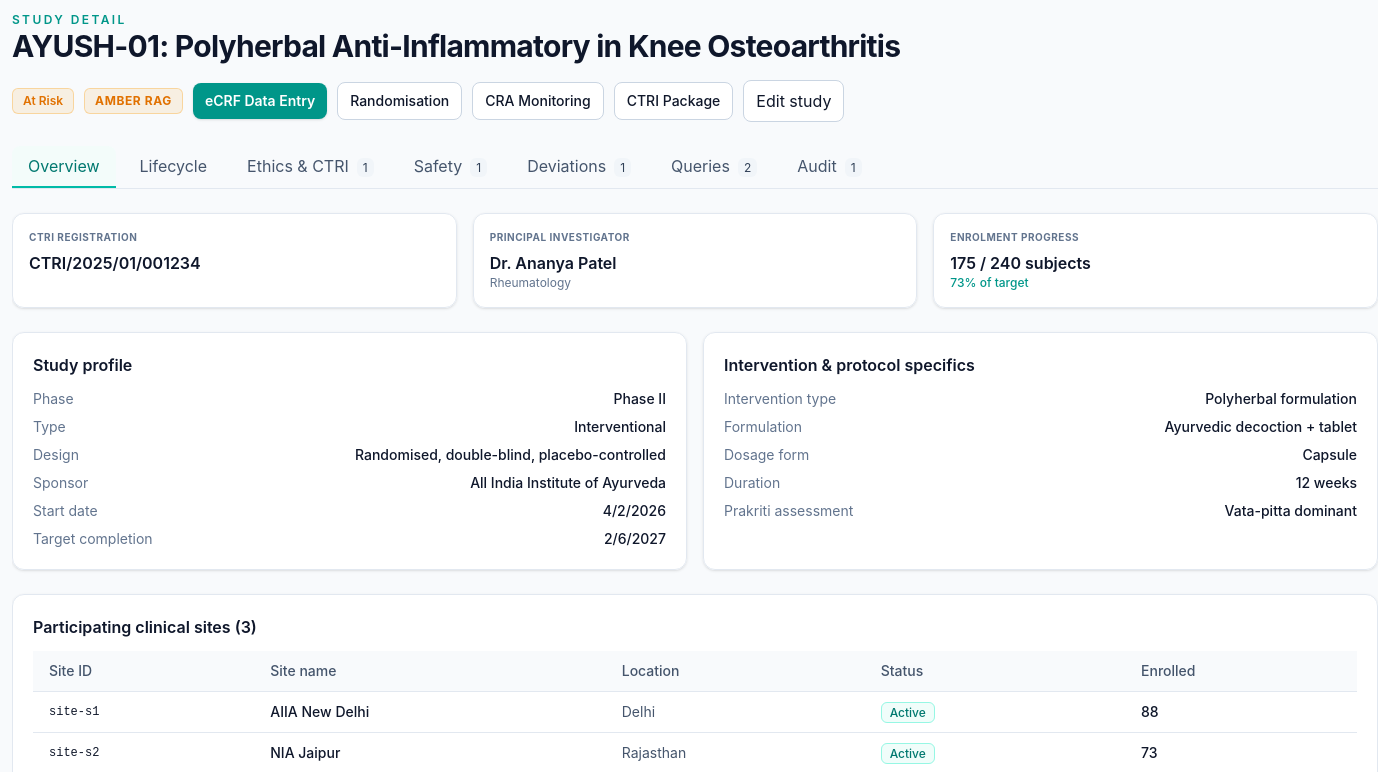
it: study change reason dialog and study tabs › renders all tabs and switches between them showing store data
Expected: the tab "Overview" is shown, [12,146,116,188]
Expected: the tab "Ethics & CTRI1" is shown, [231,146,390,188]
Click Lifecycle tab and verify completed, current, and upcoming stages
Step 1. Click the tab "Lifecycle" → (173,167), box [124,146,223,188]
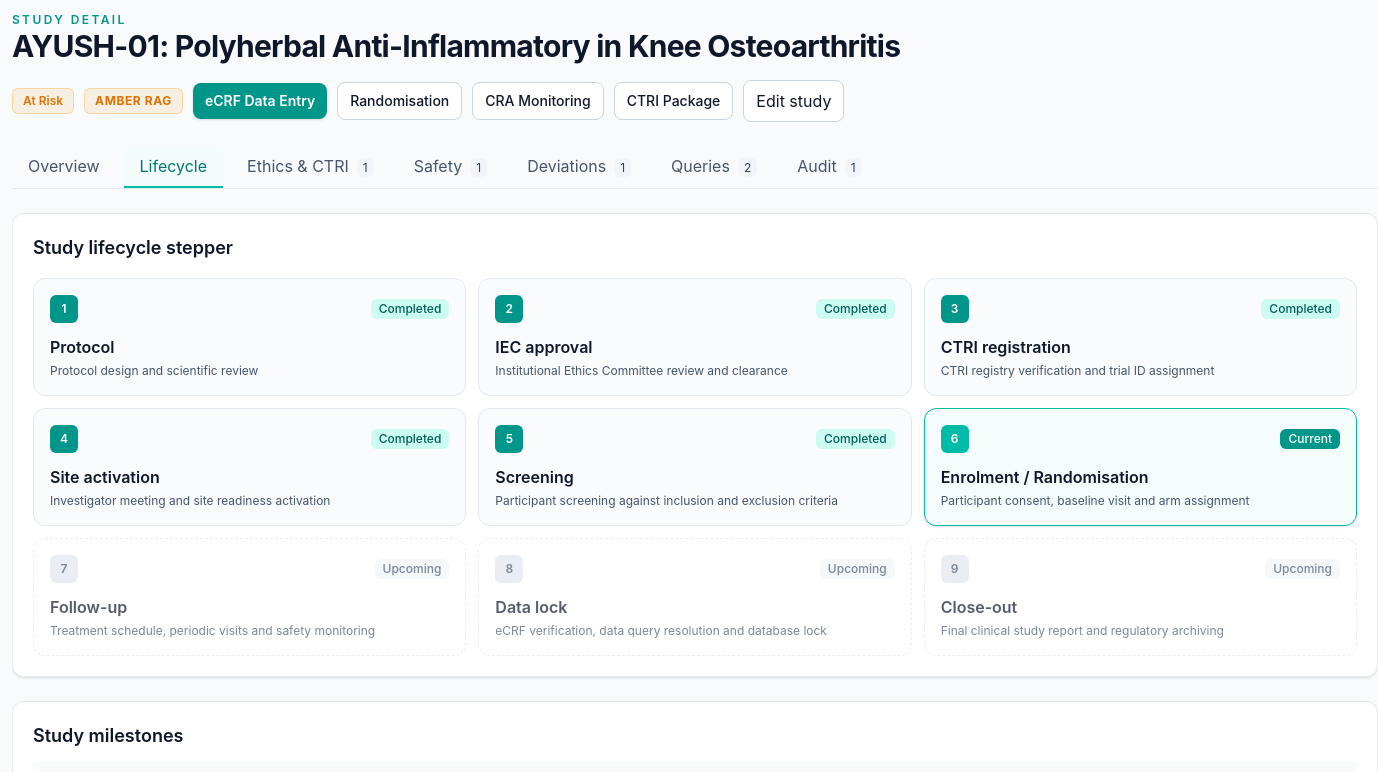
Result: the heading "Study lifecycle stepper" is shown at [33,237,233,258]
Result: the 1st text "Completed" is shown at [371,299,449,319]
Result: the text "Current" is shown at [1280,429,1340,449]
Click Safety tab
Step 2. Click the tab "Safety1" → (450,167), box [398,146,503,188]
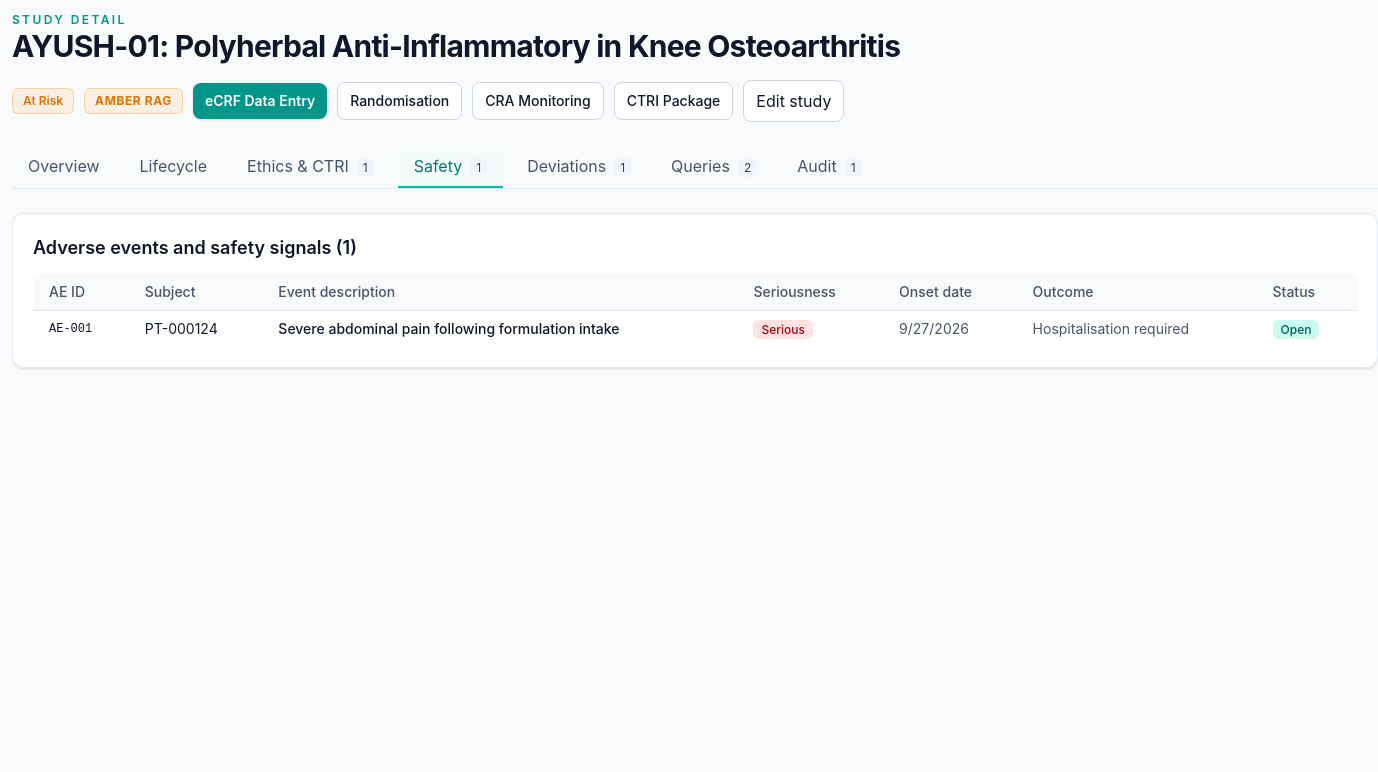
Result: the heading "Adverse events and safety signals (1)" is shown at [33,237,357,258]
Result: the text "Severe abdominal pain following formulation intake" is shown at [262,310,737,347]
Click Deviations tab
Step 3. Click the tab "Deviations1" → (579,167), box [511,146,647,188]
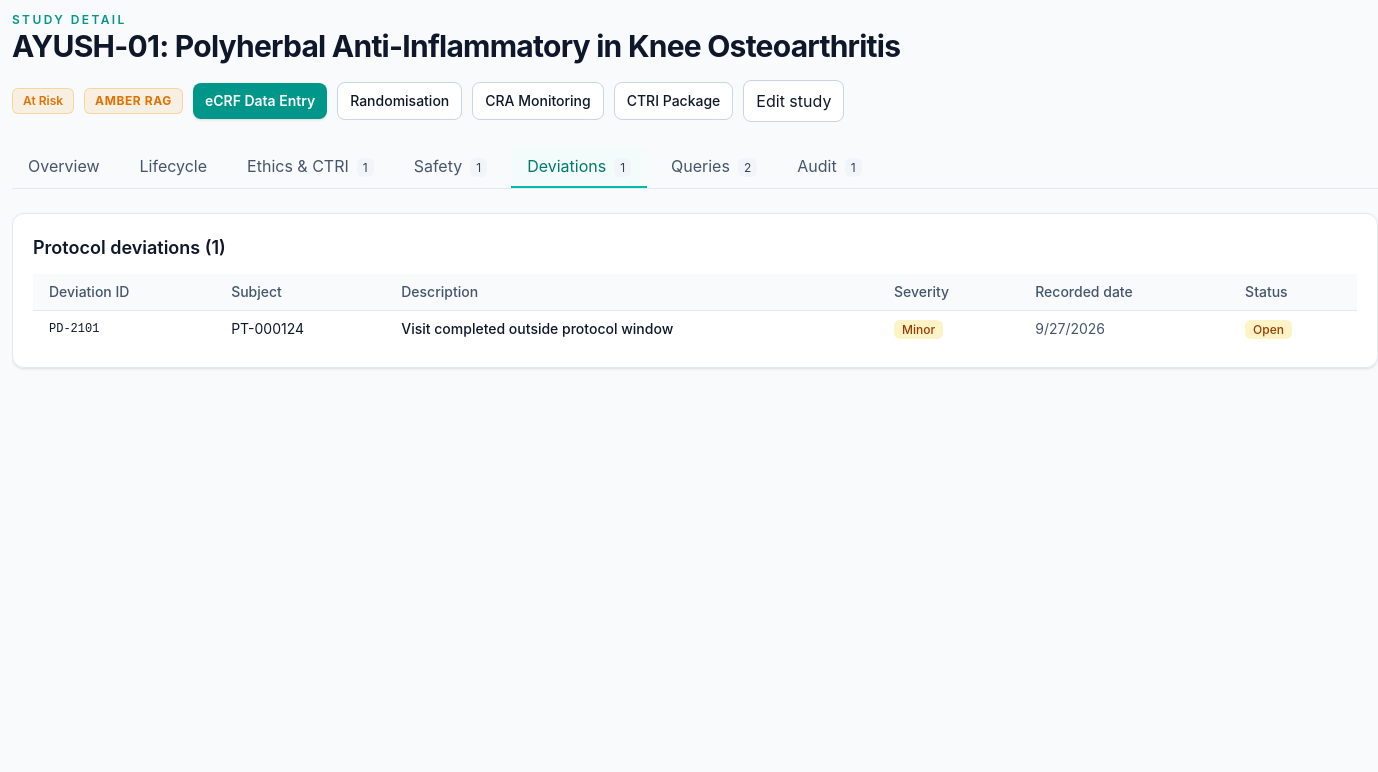
Result: the heading "Protocol deviations (1)" is shown at [33,237,226,258]
Result: the text "Visit completed outside protocol window" is shown at [385,310,878,347]
Click Queries tab
Step 4. Click the tab "Queries2" → (714,167), box [655,146,773,188]
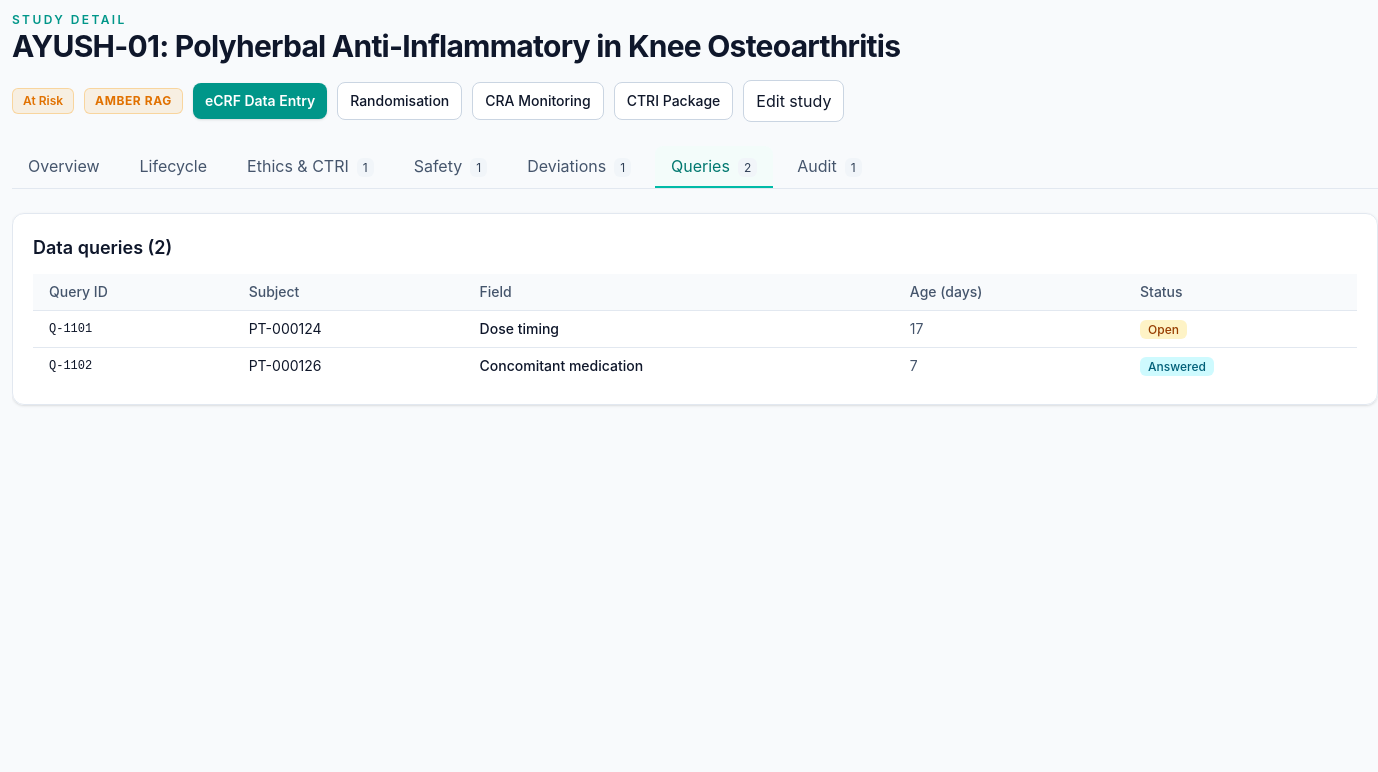
Result: the heading "Data queries (2)" is shown at [33,237,172,258]
Result: the text "Dose timing" is shown at [464,310,894,348]
Click Audit tab
Step 5. Click the tab "Audit1" → (829,167), box [781,146,878,188]
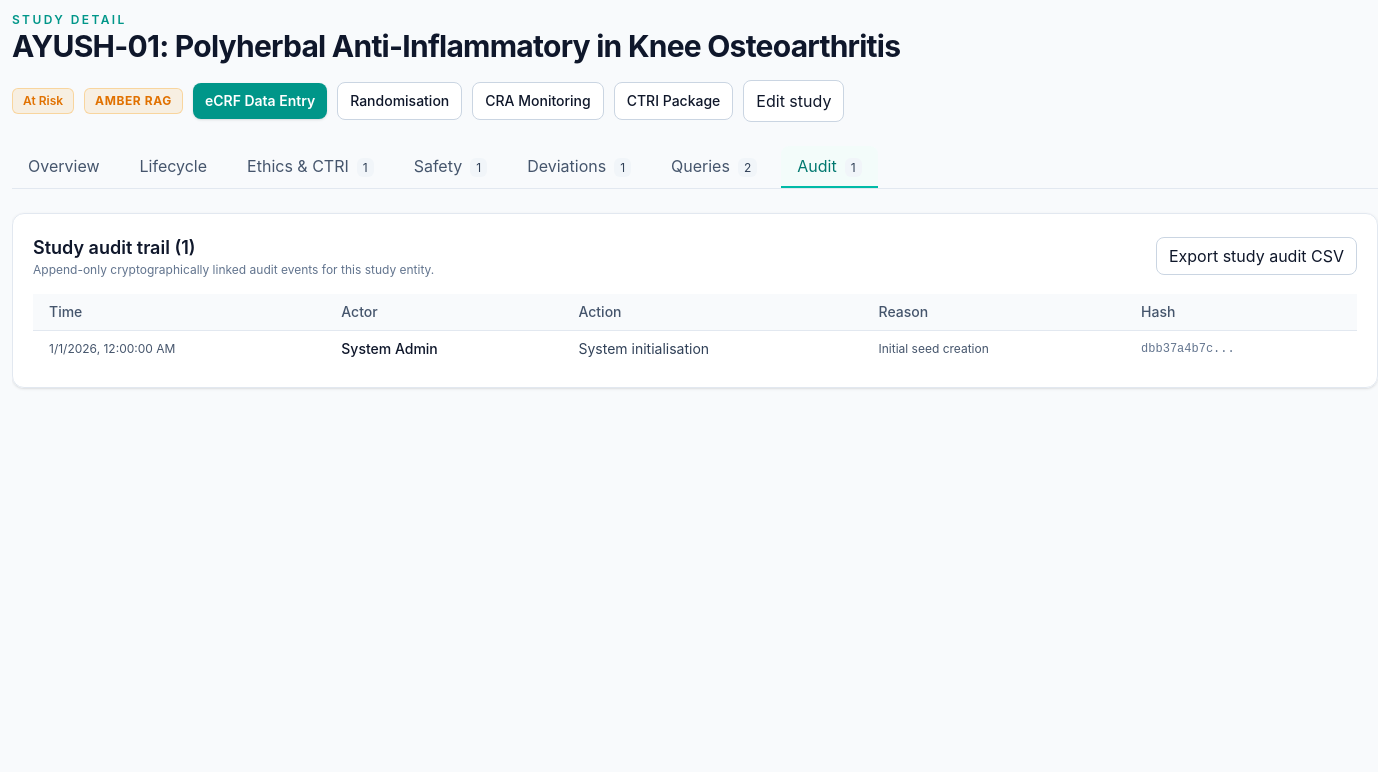
Result: the heading "Study audit trail (1)" is shown at [33,237,196,258]
Result: the text "Initial seed creation" is shown at [862,330,1125,367]
